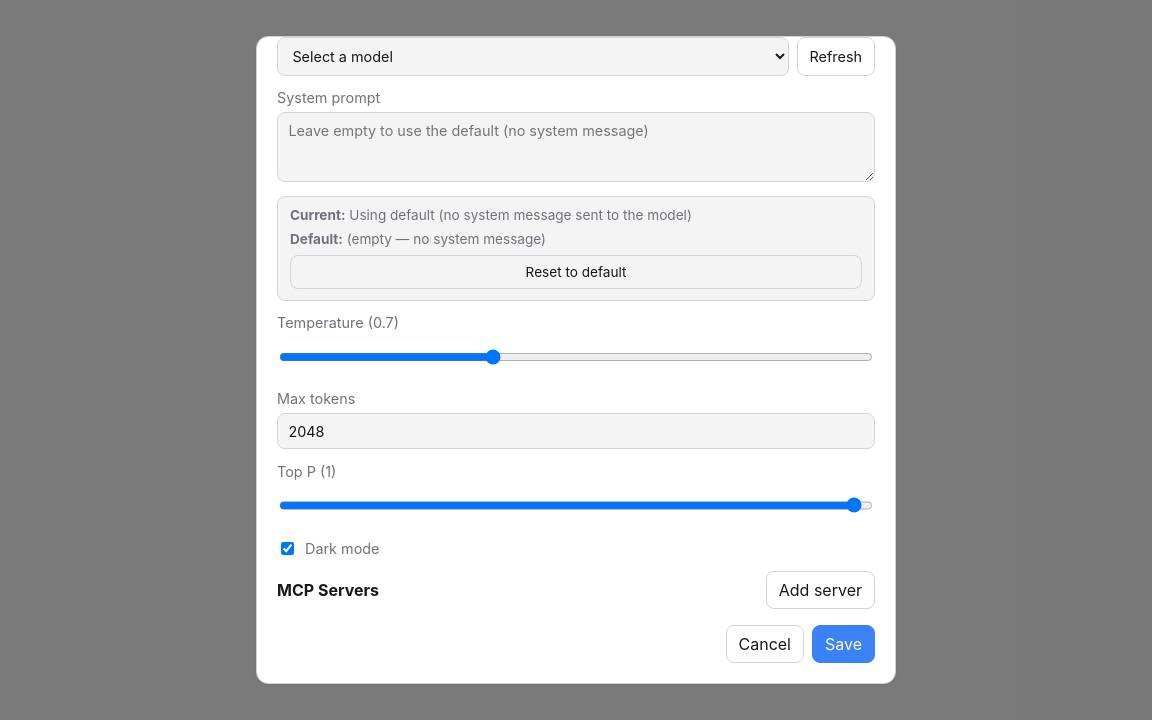
Test: SettingsModal › adds an MCP server row when Add server is clicked
This screenshot has width=1152, height=720.
(page scrolled)
Expected: the field labelled "Name" is not shown
Click the button "Add server".
click(820, 590)  # box x1=766 y1=571 x2=875 y2=609
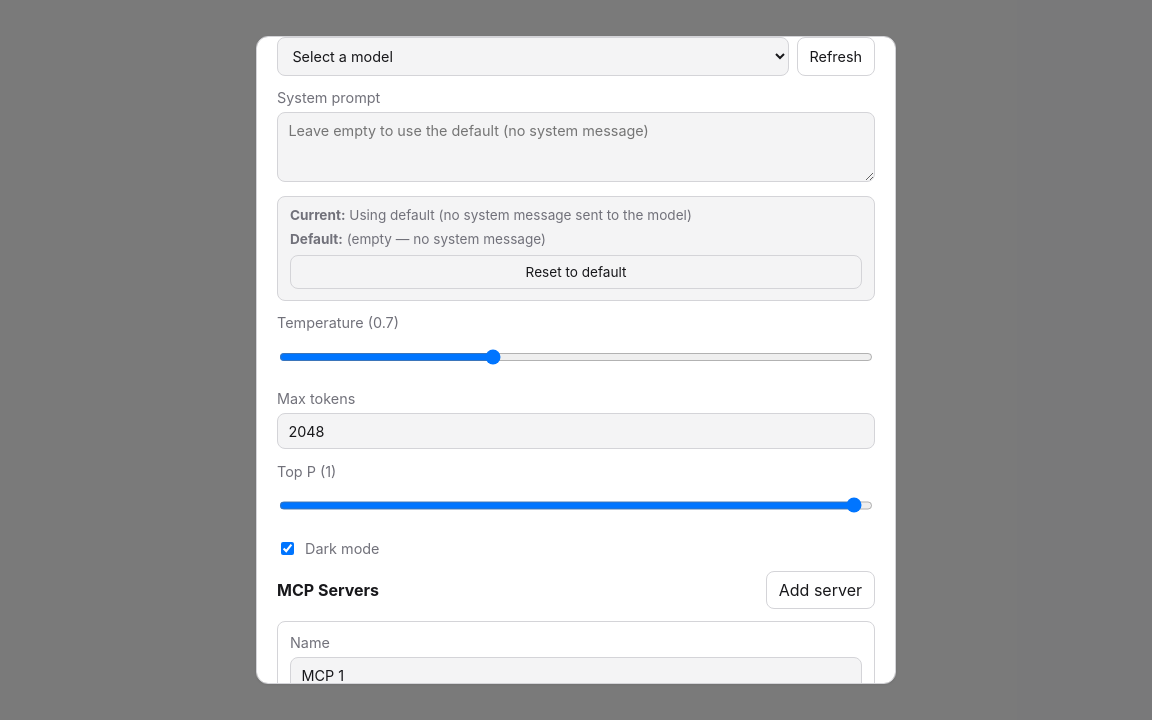
Expected: the field showing "MCP 1" is shown, x1=290 y1=657 x2=862 y2=684
